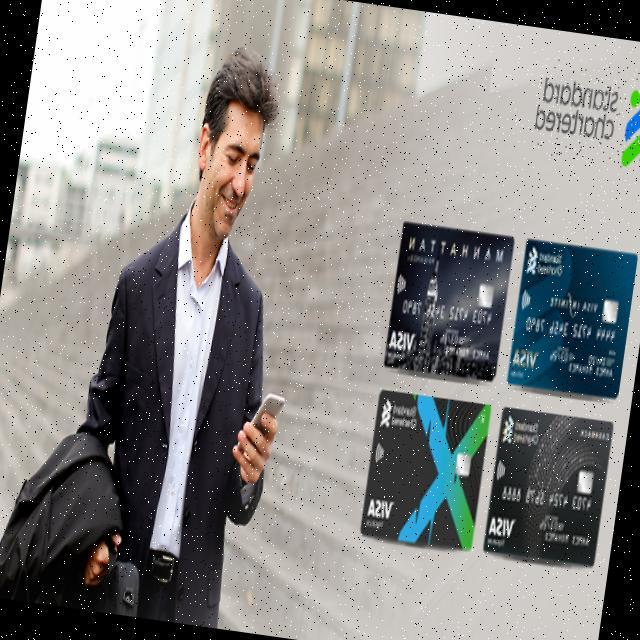Standard Chartered: (530, 54, 640, 171), (380, 398, 420, 434), (501, 413, 541, 449), (526, 245, 566, 280)
